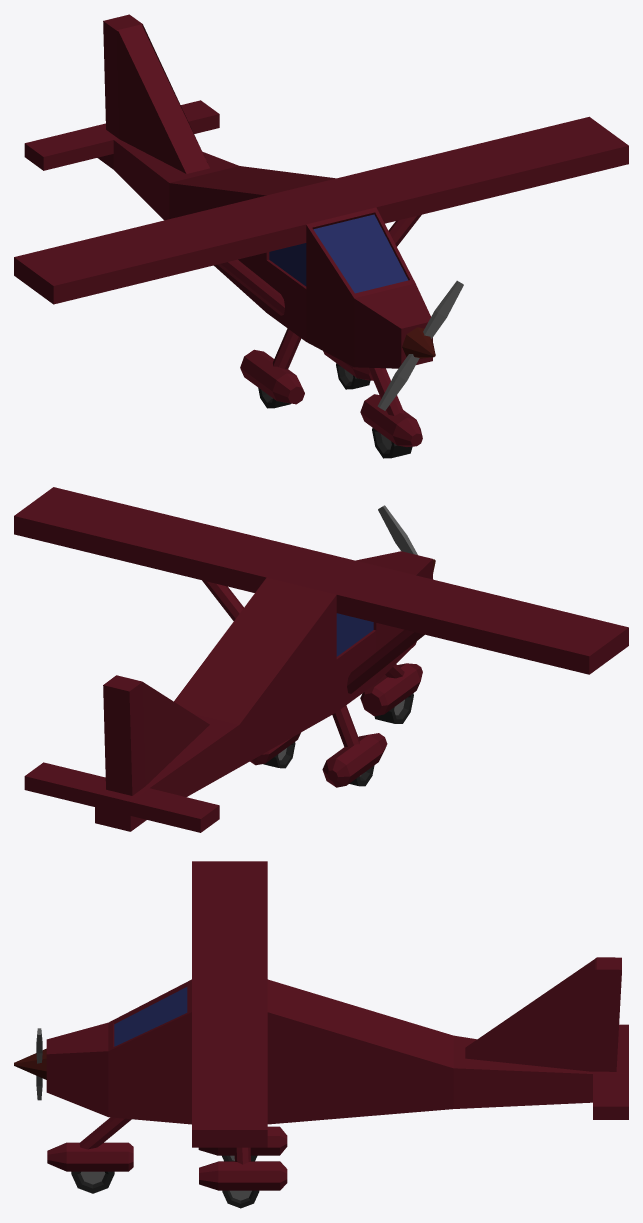
File: SmallPlane(colour).fbx
3 renders of one model, top to bottom at view 1: azimuth 30°, elevation 25°; view 2: azimuth 150°, elevation 25°; view 3: azimuth 270°, elevation 25°, orthographic. The views are drawn at different scales.
Parts seen in each view (by area): view 1: Cube; view 2: Cube; view 3: Cube.
Part boxes in pixels (x1,y1,x2,y2): Cube: (14, 14, 628, 458); Cube: (14, 487, 628, 832); Cube: (14, 861, 628, 1208).
Bounding box in the file's own units: 2050 × 804 × 1984.
